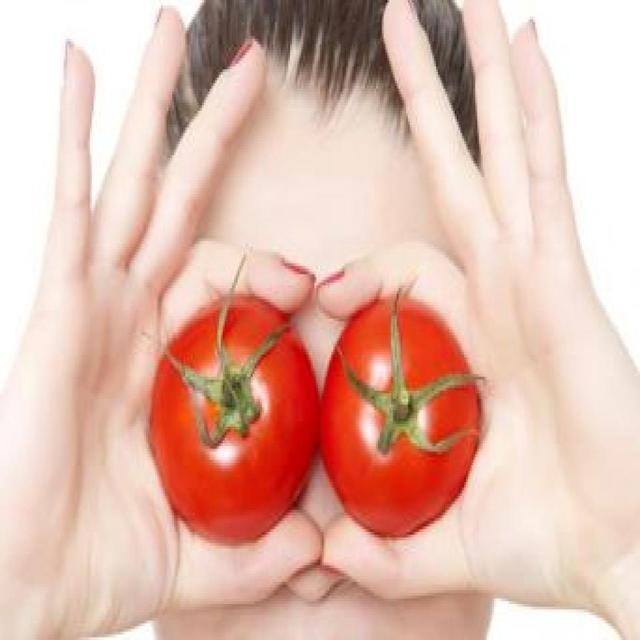Healthy Fruit: (114, 178, 263, 277)
